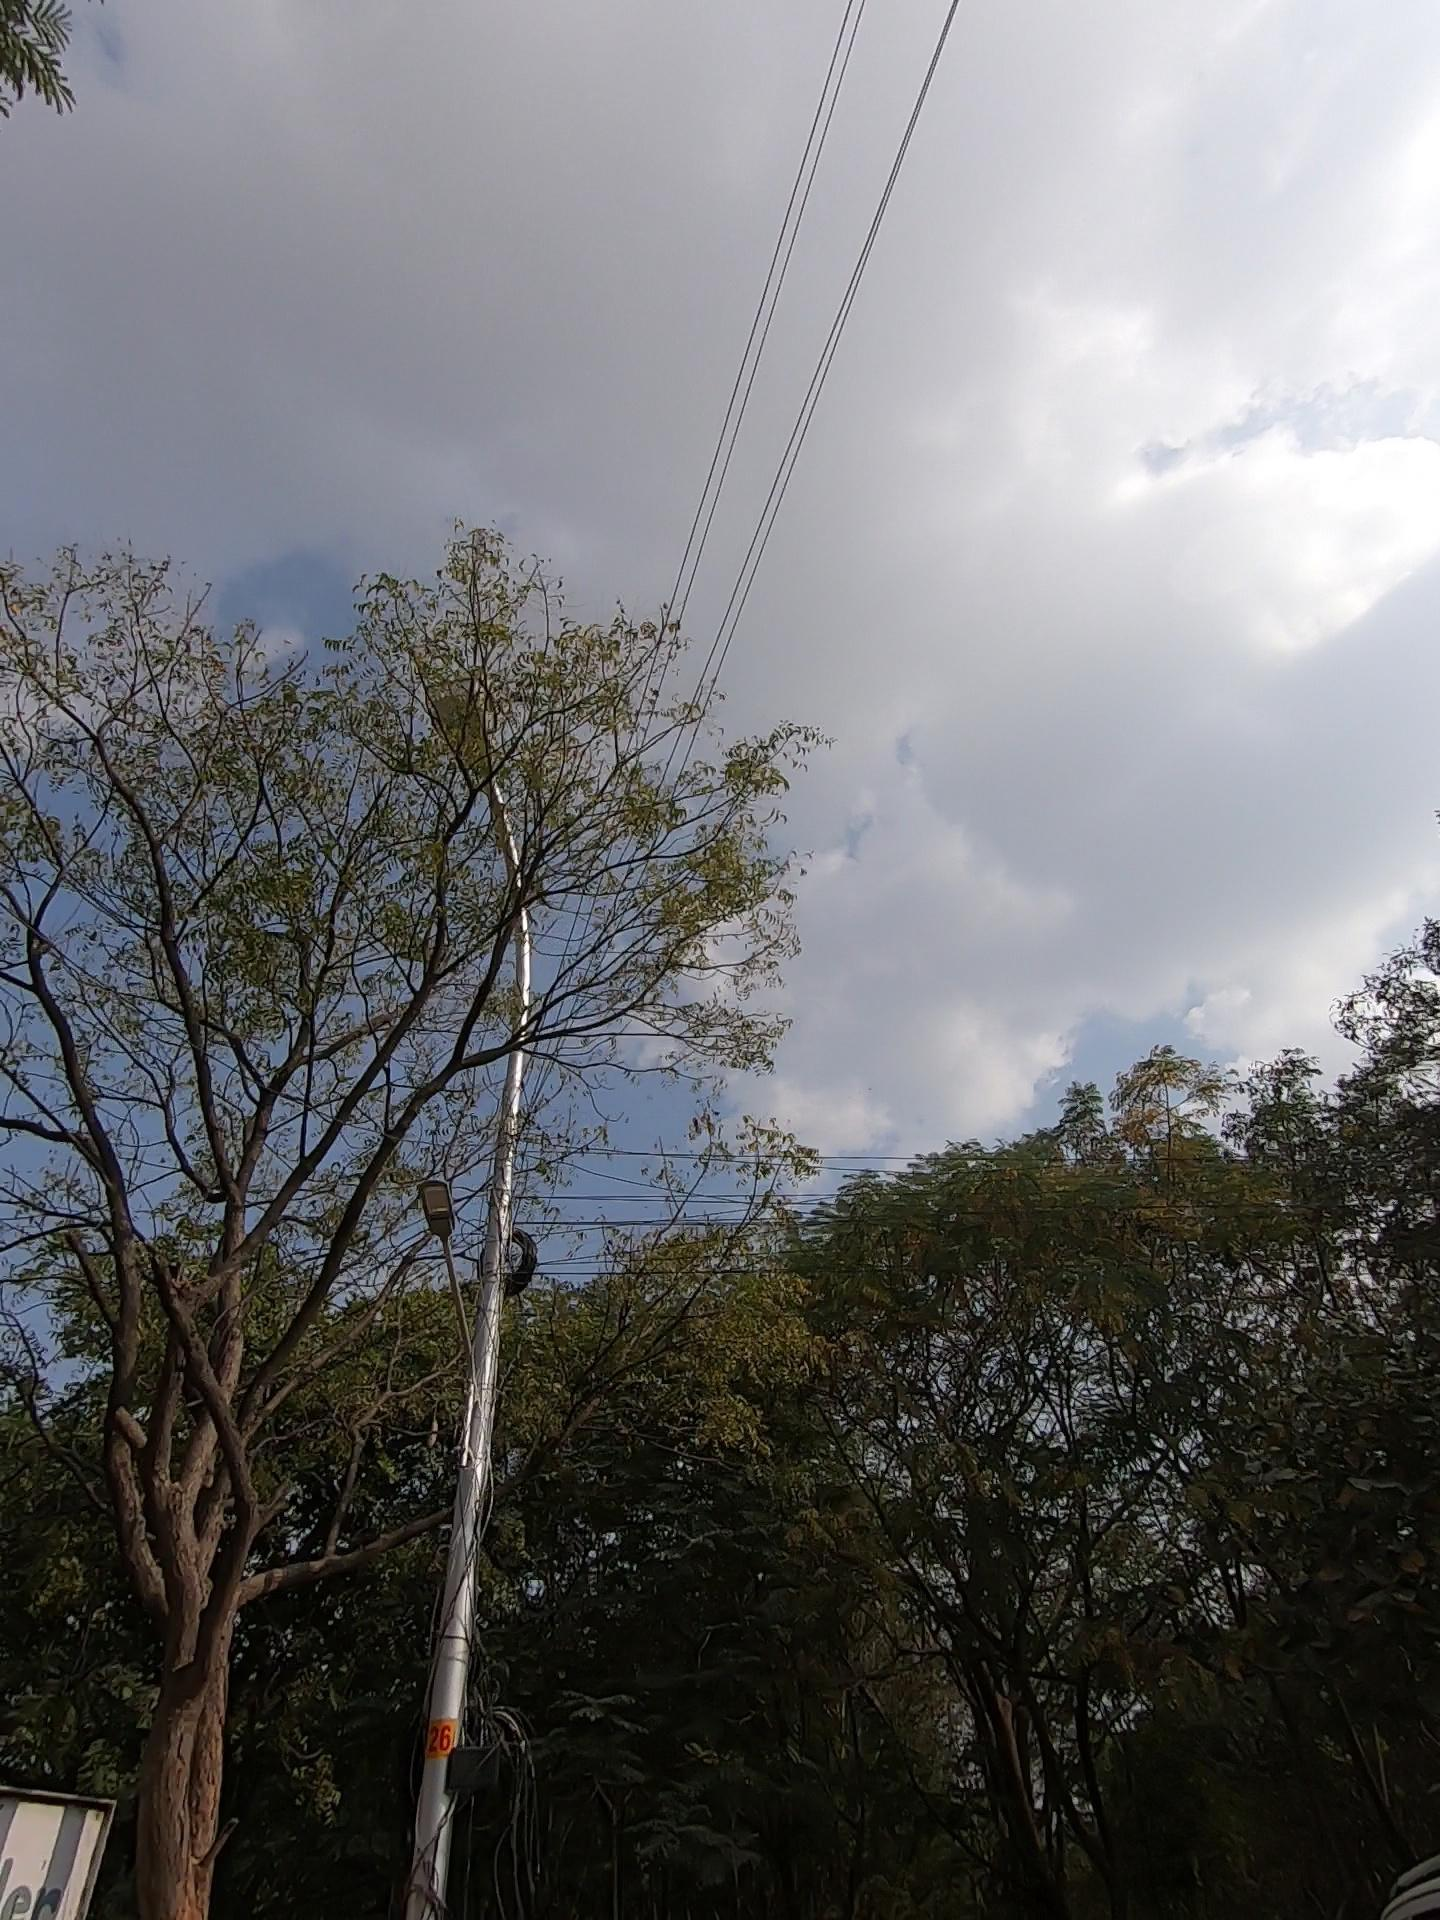off: (360, 615, 640, 1075)
